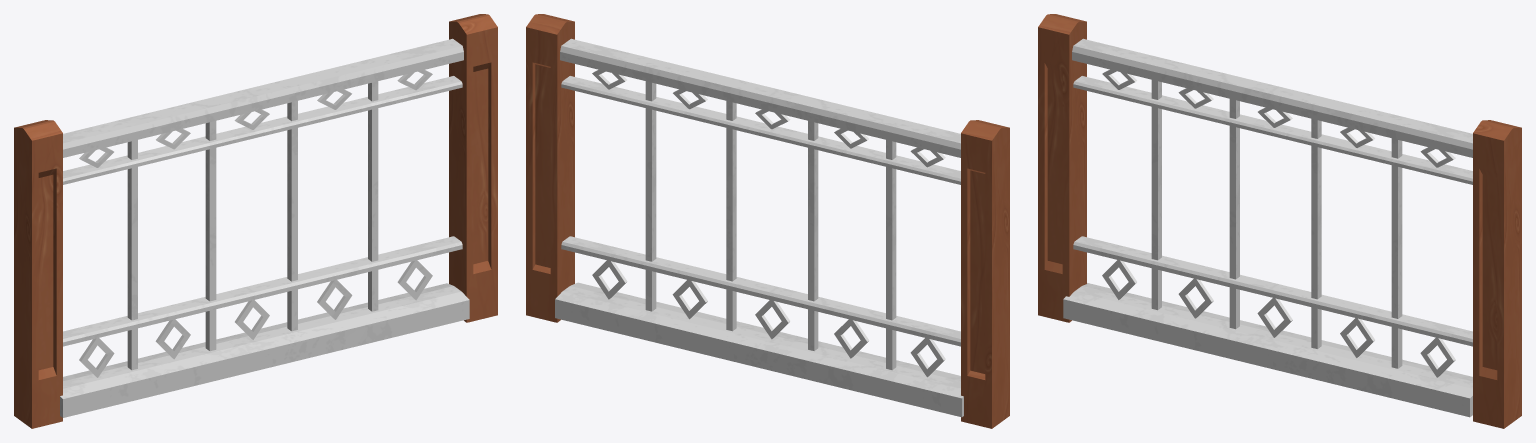
Rendered from StationFrame_F_002.fbx.
3 renders of one model, left to right at view 1: azimuth 30°, elevation 25°; view 2: azimuth 150°, elevation 25°; view 3: azimuth 330°, elevation 25°, orthographic.
Visible parts, largest first — view 1: StationFrame_F_002; view 2: StationFrame_F_002; view 3: StationFrame_F_002.
Boxes of the visible parts, <box> form: StationFrame_F_002: <box>14,14,497,428</box>; StationFrame_F_002: <box>526,14,1009,428</box>; StationFrame_F_002: <box>1038,14,1521,428</box>.
Size of the model in its own units: 132 by 79.84 by 11.24.
Materials: 3 (3 with a texture image).
